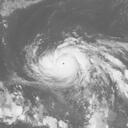cyclone: (38, 38, 90, 89)
